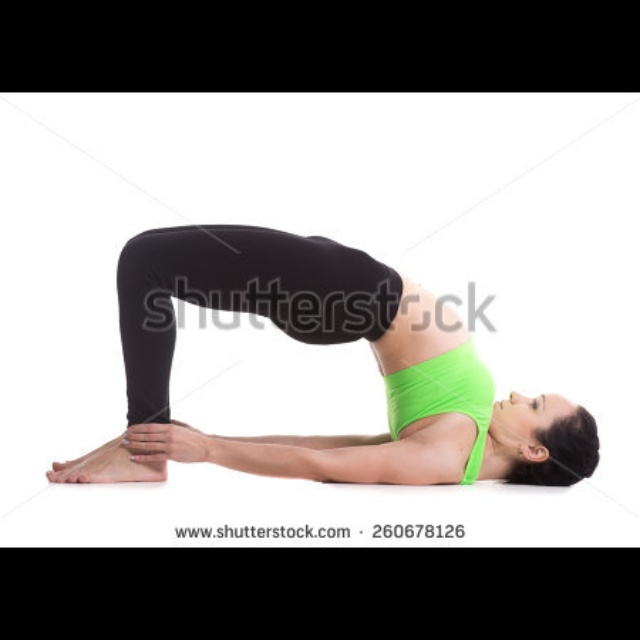Bridge_Pose: (43, 216, 604, 500)
